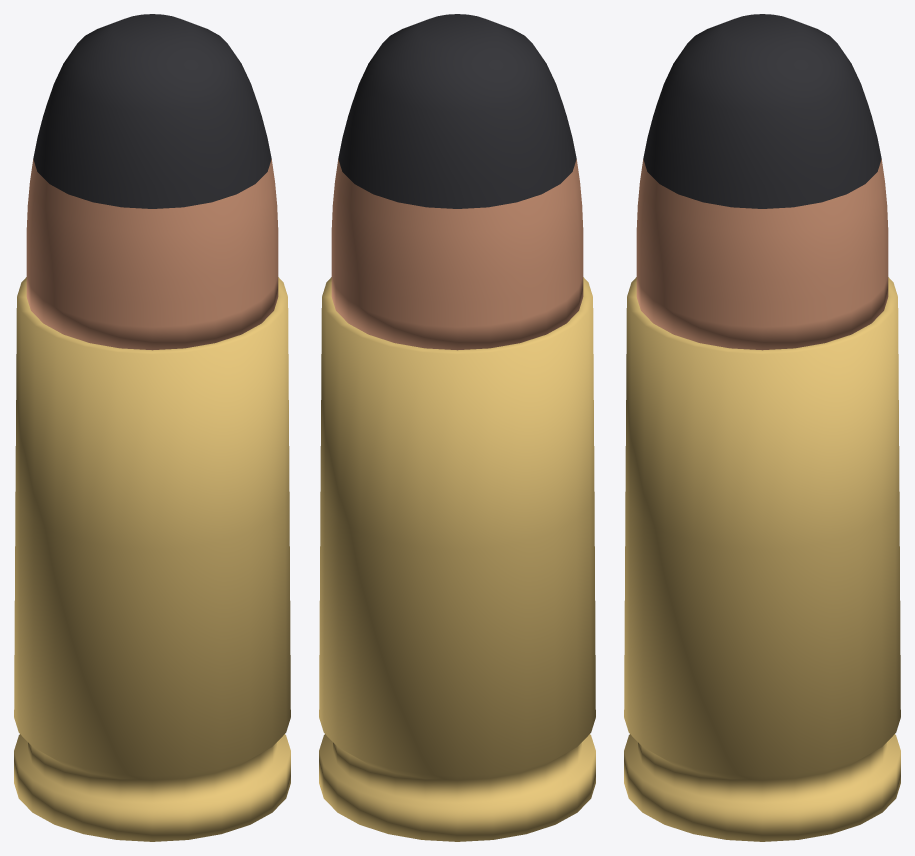
The picture shows the model from 3 angles, left to right: view 1: azimuth 30°, elevation 25°; view 2: azimuth 150°, elevation 25°; view 3: azimuth 270°, elevation 25°; orthographic projection.
Visible parts, largest first — view 1: vaina, punta, bala_cuerpo; view 2: vaina, punta, bala_cuerpo; view 3: vaina, punta, bala_cuerpo.
Part boxes in pixels (x1=…): vaina: x1=14, y1=277, x2=290, y2=841; punta: x1=33, y1=14, x2=271, y2=208; bala_cuerpo: x1=26, y1=159, x2=278, y2=350; vaina: x1=319, y1=277, x2=595, y2=841; punta: x1=338, y1=14, x2=576, y2=208; bala_cuerpo: x1=331, y1=159, x2=583, y2=350; vaina: x1=624, y1=277, x2=900, y2=841; punta: x1=643, y1=14, x2=881, y2=208; bala_cuerpo: x1=636, y1=159, x2=888, y2=350.
Bounding box in the file's own units: 0.0099 × 0.0297 × 0.0099.
